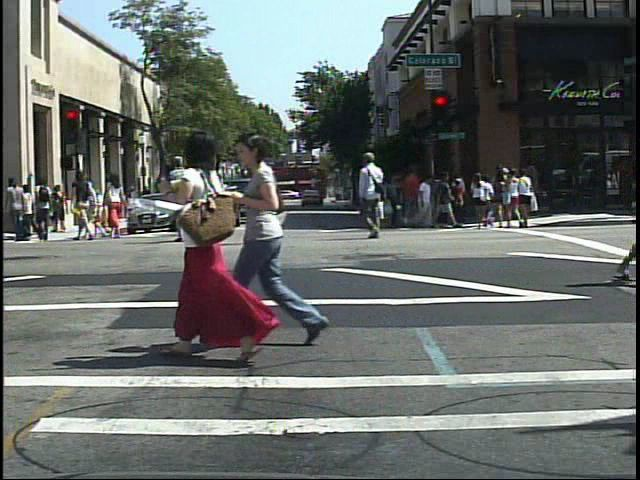person: (147, 128, 264, 358), (234, 125, 333, 350), (164, 154, 200, 244), (359, 149, 391, 243), (490, 163, 528, 232), (201, 155, 230, 245), (70, 166, 99, 244), (103, 169, 131, 243), (470, 169, 494, 233), (34, 176, 55, 244), (6, 178, 27, 244)
